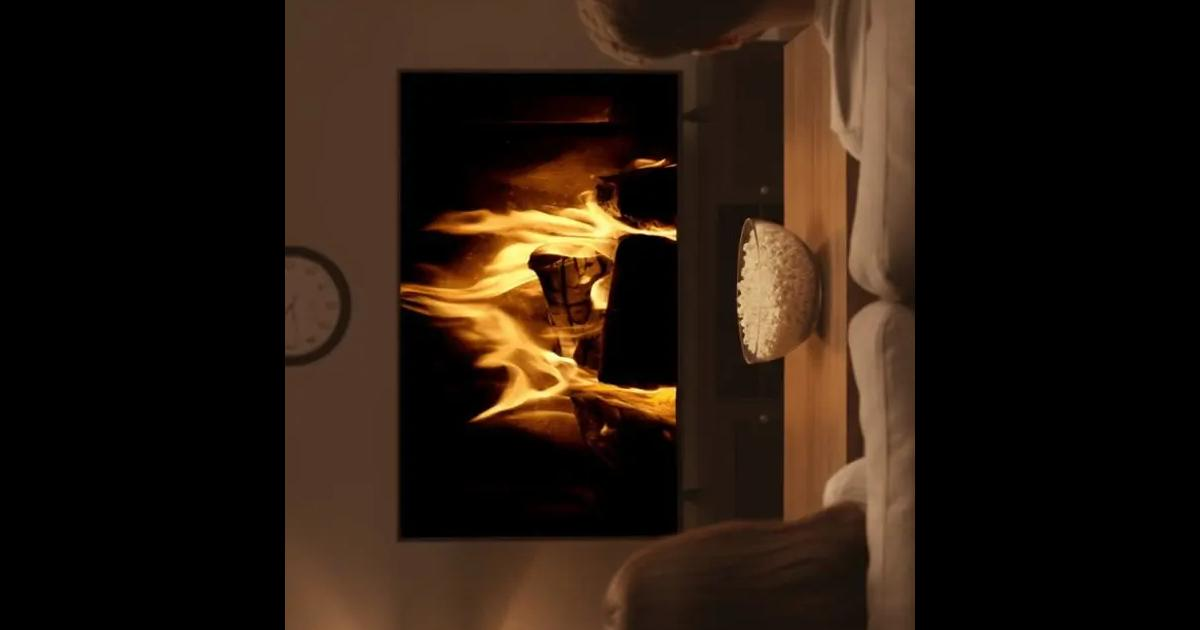controlled_fire: (396, 121, 680, 501)
